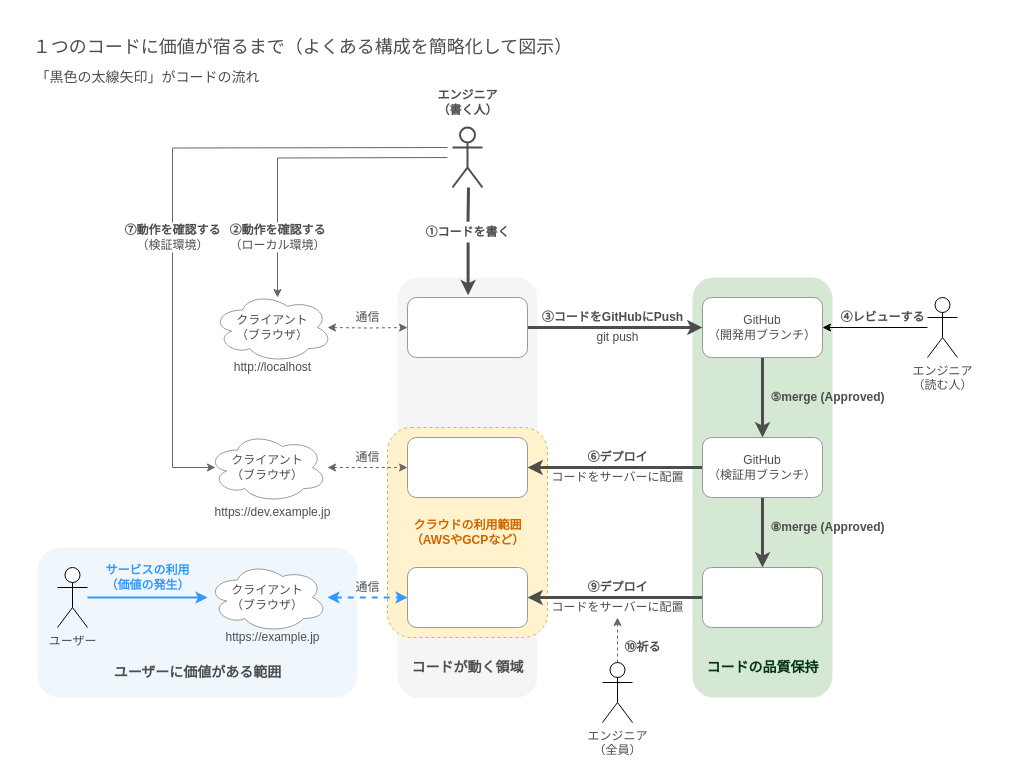
Image size: 1014x784. Some labels were removed from this diagram. Here are the shapes that lost their labels. From the top down, the box of each, then its label:
(406, 296, 528, 358): ローカル環境
(406, 436, 528, 498): 検証サーバー （検証環境）
(406, 566, 528, 628): 本番サーバー （本番環境） 常時運用中
(702, 566, 822, 628): GitHub （本番ブランチ）
